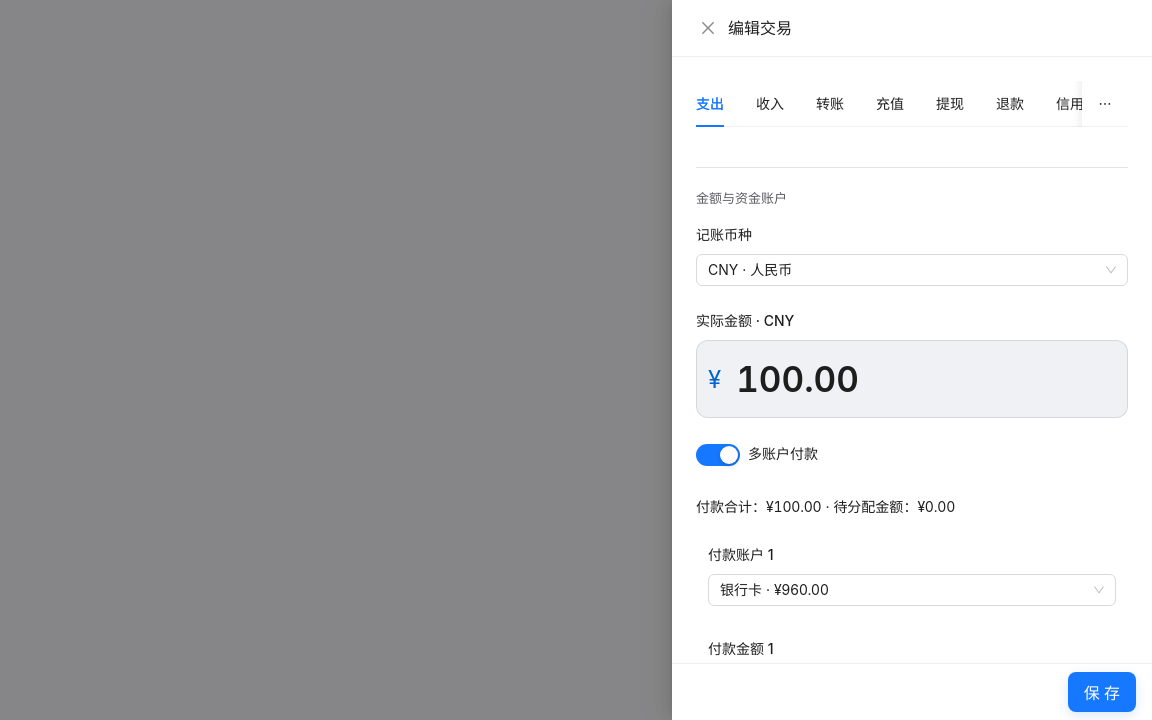
it: 编辑多账户消费保留付款明细，保存后显示交易后余额
Click the button "保 存".
click(1102, 692)  # box [1068,672,1136,712]
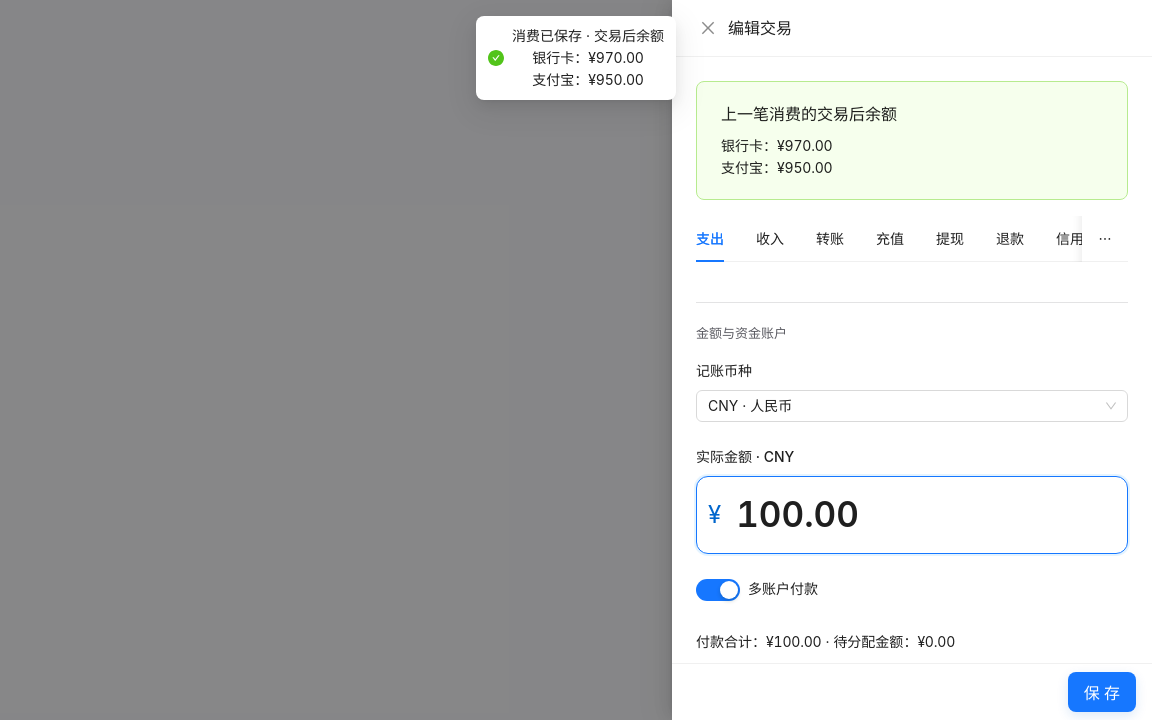
Expected: the text "消费已保存 · 交易后余额" is shown, [512,27,664,44]
Expected: the text "¥970.00" below "上一笔消费的交易后余额" is shown, [777,137,832,154]
